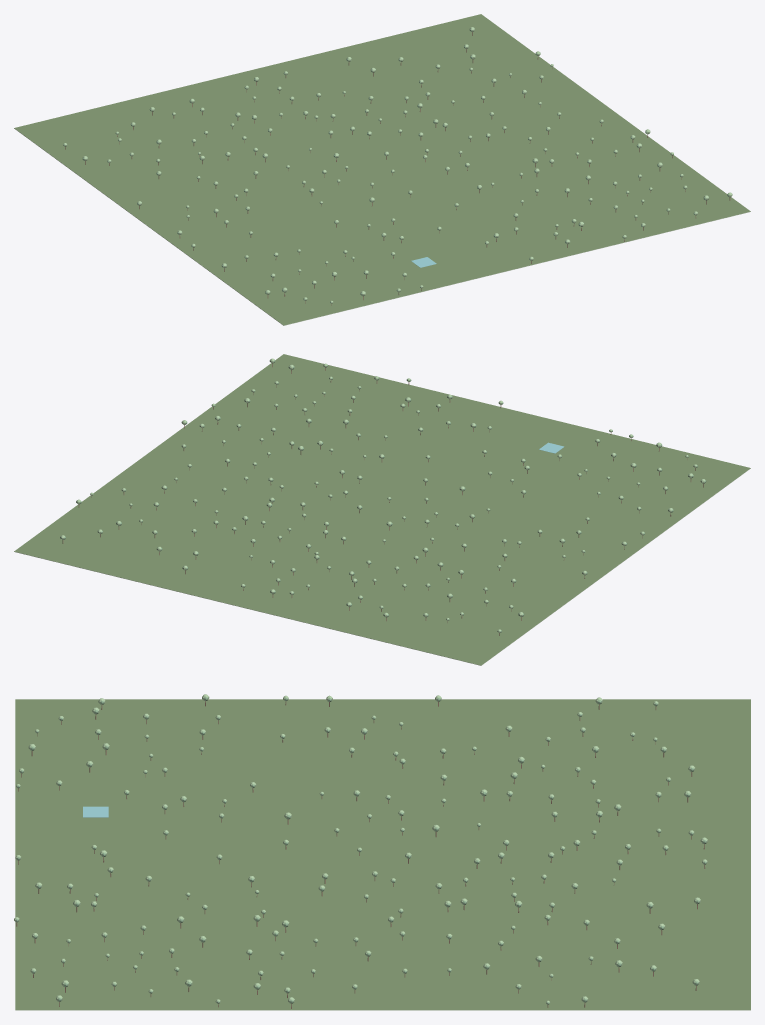
File: chunk_6_6_high.glb
3 views of the same model, one above another, from view 1: azimuth 30°, elevation 25°; view 2: azimuth 150°, elevation 25°; view 3: azimuth 270°, elevation 25° (orthographic). The views are drawn at different scales.
Parts seen in each view (by area): view 1: city_forest_floor, city_foliage, city_foliage_dark, city_bark, city_grass; view 2: city_forest_floor, city_foliage, city_foliage_dark, city_grass, city_bark; view 3: city_forest_floor, city_foliage, city_foliage_dark, city_bark, city_grass.
Part boxes in pixels (bbox=[...]): city_forest_floor: bbox=[14, 14, 750, 325]; city_foliage: bbox=[64, 27, 732, 303]; city_foliage_dark: bbox=[63, 28, 732, 303]; city_bark: bbox=[65, 32, 730, 305]; city_grass: bbox=[14, 128, 750, 325]; city_forest_floor: bbox=[14, 354, 750, 665]; city_foliage: bbox=[60, 358, 705, 632]; city_foliage_dark: bbox=[60, 359, 706, 632]; city_grass: bbox=[14, 468, 750, 665]; city_bark: bbox=[62, 363, 703, 635]; city_forest_floor: bbox=[15, 699, 750, 1009]; city_foliage: bbox=[14, 694, 707, 1004]; city_foliage_dark: bbox=[15, 697, 706, 1004]; city_bark: bbox=[16, 701, 705, 1008]; city_grass: bbox=[15, 1010, 750, 1010].
Bounding box in the file's own units: 513 × 9.79 × 513.
